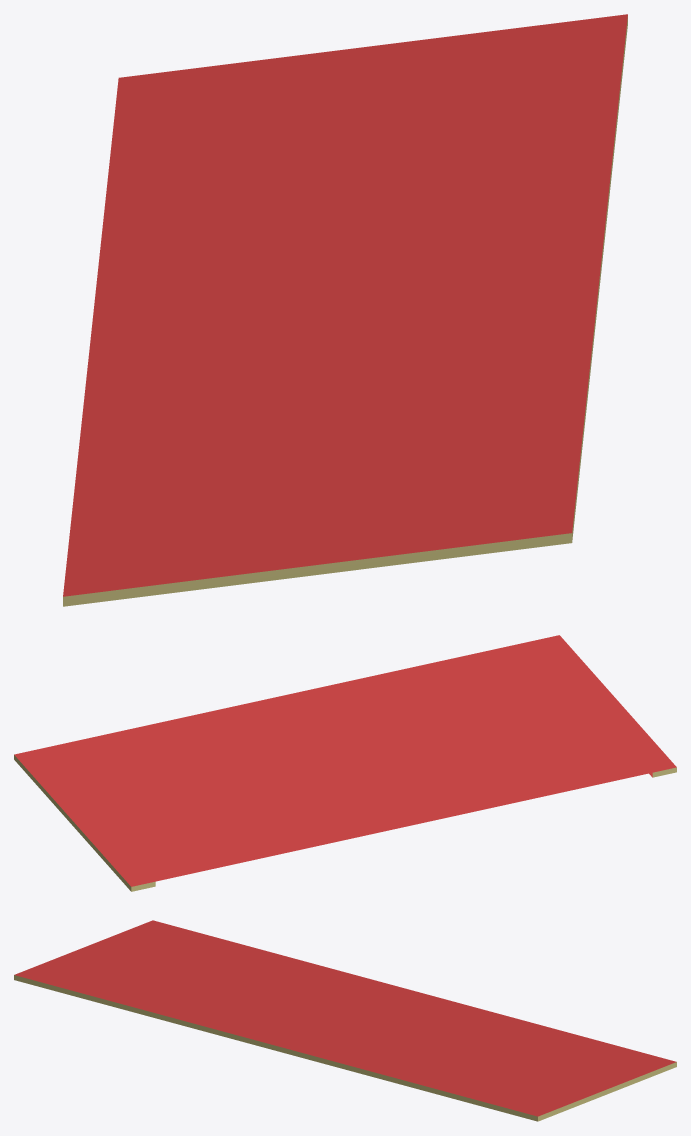
3 views of the same model, one above another, from view 1: azimuth 30°, elevation 25°; view 2: azimuth 150°, elevation 25°; view 3: azimuth 270°, elevation 25° (orthographic). The views are drawn at different scales.
Size of the model in its own units: 9.91 by 11.89 by 0.835.
